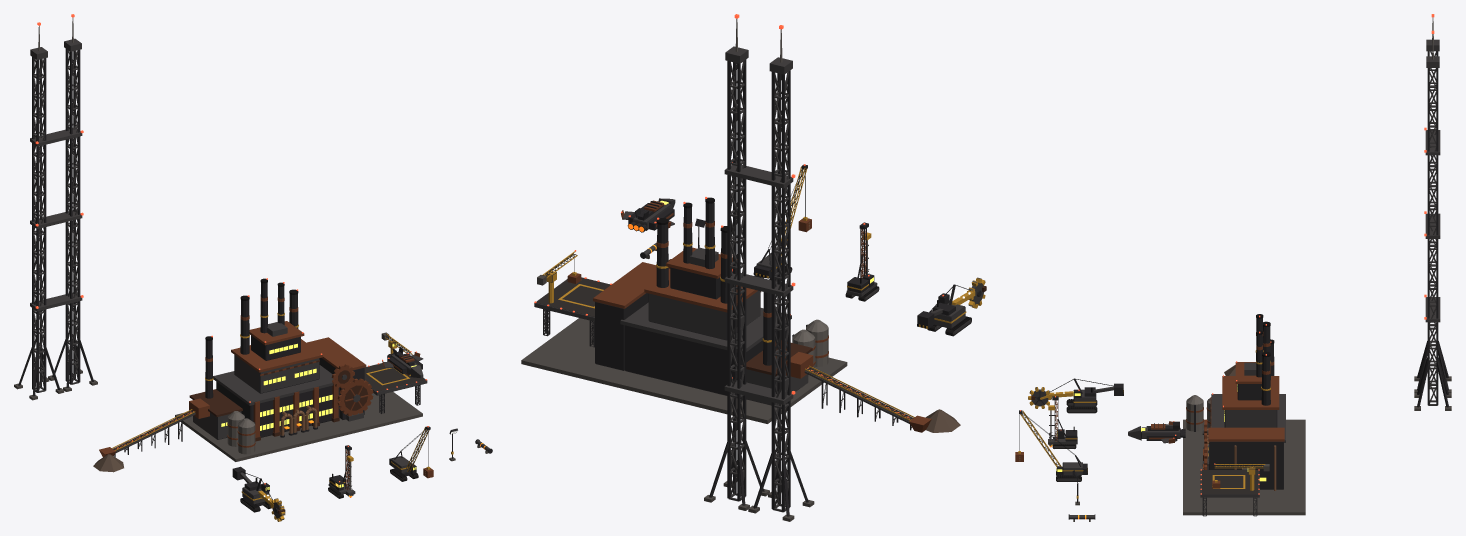
File: mining.glb
3 renders of one model, left to right at view 1: azimuth 30°, elevation 25°; view 2: azimuth 150°, elevation 25°; view 3: azimuth 270°, elevation 25°, orthographic. The views are drawn at different scales.
Visible parts, largest first — view 1: refinery_body, mast_body, excavator_body, refinery_gear_big, hauler_body, crane_upper, drillrig_body; view 2: refinery_body, mast_body, excavator_body, hauler_body, drillrig_body, crane_upper, refinery_crane; view 3: refinery_body, mast_body, excavator_body, crane_upper, hauler_body, drillrig_body.
Part boxes in pixels (x1,y1,x2,y2): refinery_body: (93, 278, 427, 472); mast_body: (14, 14, 97, 400); excavator_body: (232, 466, 285, 514); refinery_gear_big: (337, 378, 373, 416); hauler_body: (382, 347, 423, 377); crane_upper: (389, 426, 433, 478); drillrig_body: (328, 445, 355, 498); refinery_body: (521, 197, 960, 432); mast_body: (704, 14, 814, 521); excavator_body: (917, 284, 986, 336); hauler_body: (621, 198, 675, 232); drillrig_body: (845, 222, 879, 301); crane_upper: (753, 164, 811, 278); refinery_crane: (537, 250, 581, 285); refinery_body: (1183, 314, 1305, 516); mast_body: (1414, 14, 1451, 410); excavator_body: (1031, 378, 1123, 413); crane_upper: (1015, 410, 1087, 475); hauler_body: (1128, 421, 1185, 443); drillrig_body: (1048, 396, 1077, 448).
Size of the model in its own units: 166 by 187 by 199.
Materials: 4 (2 with a texture image).
